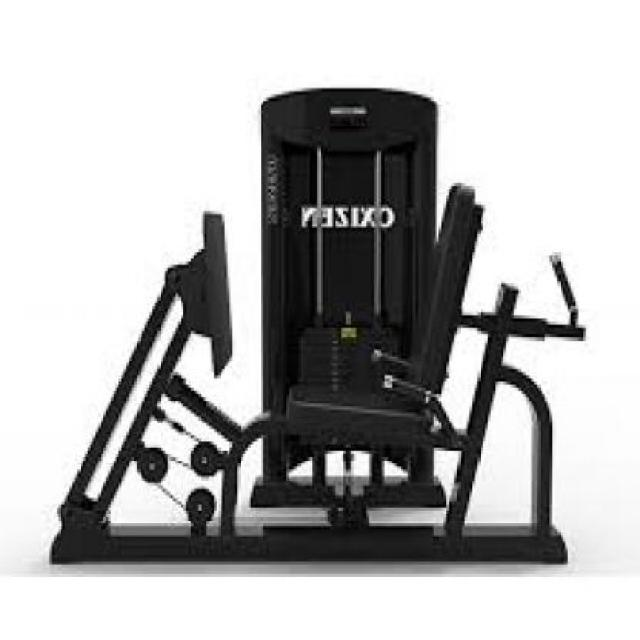leg press: (42, 74, 603, 594)
